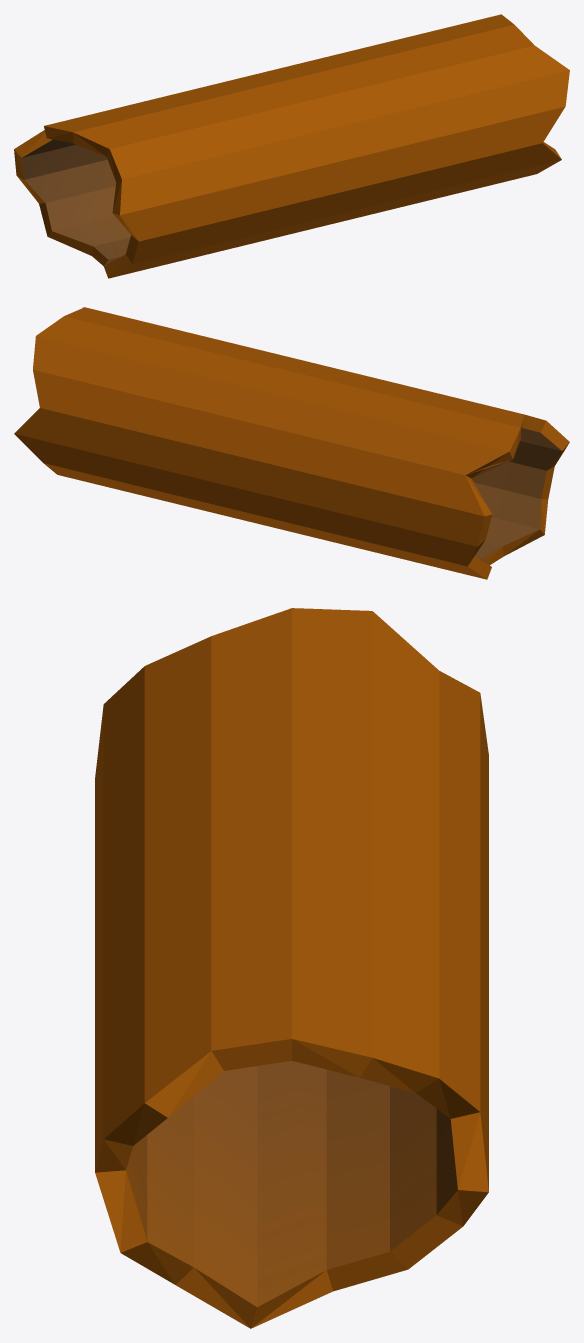
Rendered from SM_Prop_FallenTree.fbx.
The picture shows the model from 3 angles, top to bottom: view 1: azimuth 30°, elevation 25°; view 2: azimuth 150°, elevation 25°; view 3: azimuth 270°, elevation 25°; orthographic projection. The views are drawn at different scales.
Parts seen in each view (by area): view 1: SM_Prop_FallenTree; view 2: SM_Prop_FallenTree; view 3: SM_Prop_FallenTree.
Part boxes in pixels (x1,y1,x2,y2): SM_Prop_FallenTree: (14,14,569,278); SM_Prop_FallenTree: (14,307,569,579); SM_Prop_FallenTree: (95,608,488,1328).
Bounding box in the file's own units: 289 × 80.8 × 104.
